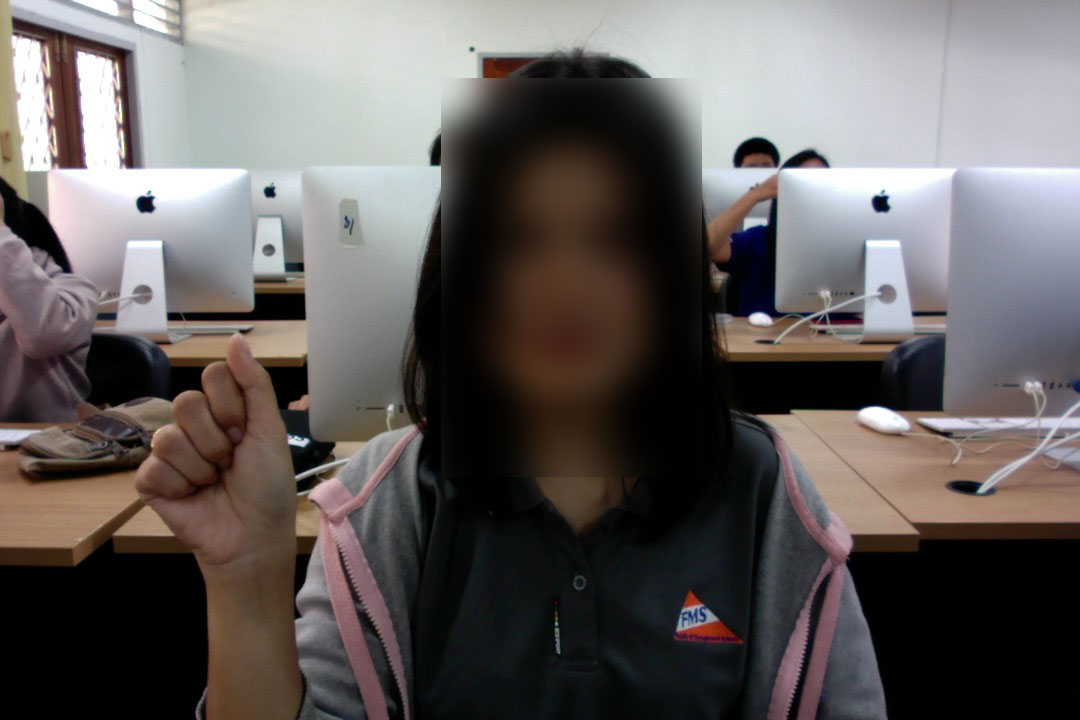or: (126, 326, 305, 566)
